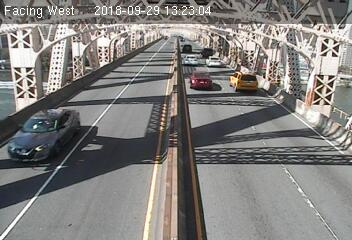car: (4, 106, 87, 165), (227, 70, 259, 92), (188, 70, 213, 89), (205, 55, 223, 68), (182, 52, 199, 65), (181, 43, 194, 55), (200, 47, 217, 55)
